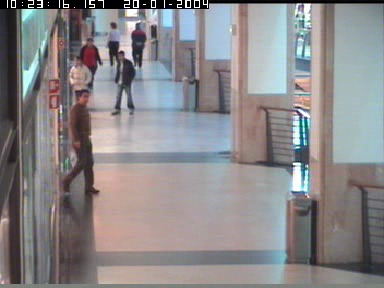person: (60, 88, 98, 194), (109, 49, 136, 115), (68, 55, 91, 119), (80, 35, 102, 84), (105, 22, 121, 68), (130, 23, 146, 67), (147, 8, 159, 39)
